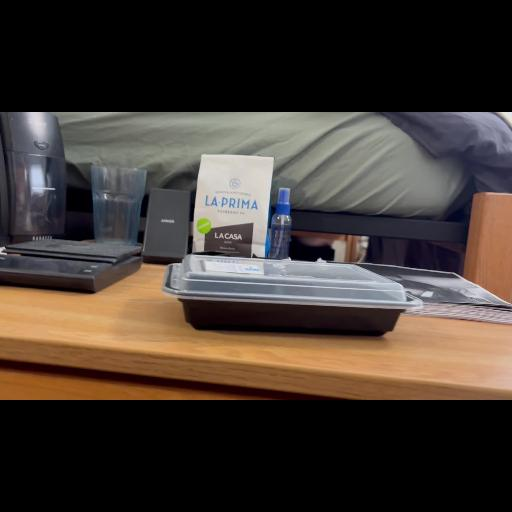rigid_plastic_container: (164, 256, 414, 336)
